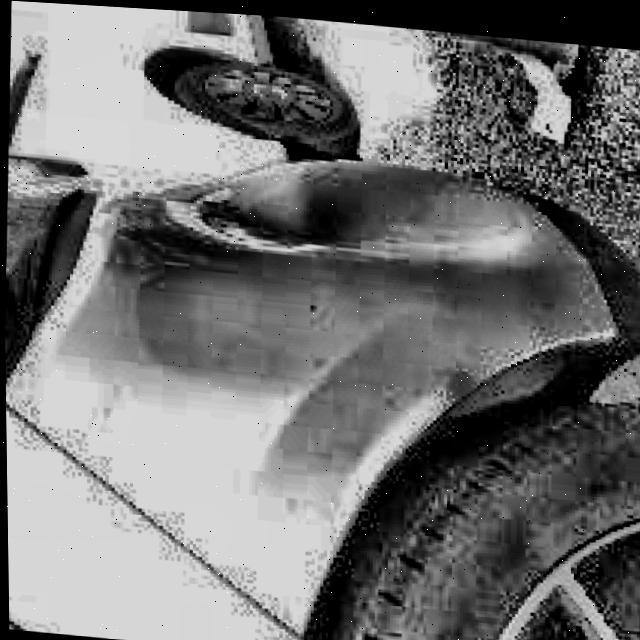bumper_dent: (195, 143, 552, 277)
